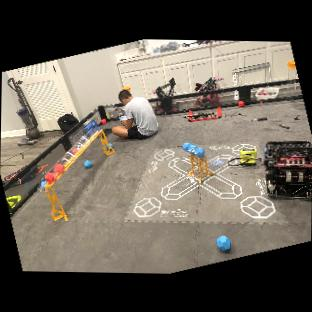Robot: (261, 139, 312, 201), (148, 76, 181, 111), (193, 75, 224, 108)
V5_BLUE: (213, 233, 233, 253), (81, 157, 94, 169), (103, 141, 115, 151)
V5_RED: (235, 98, 246, 110), (70, 145, 79, 154), (100, 116, 107, 126)
blueingoal: (38, 177, 50, 190), (193, 146, 207, 157), (188, 145, 198, 153), (182, 142, 190, 151)
redingoal: (53, 159, 68, 174), (42, 169, 57, 184)
